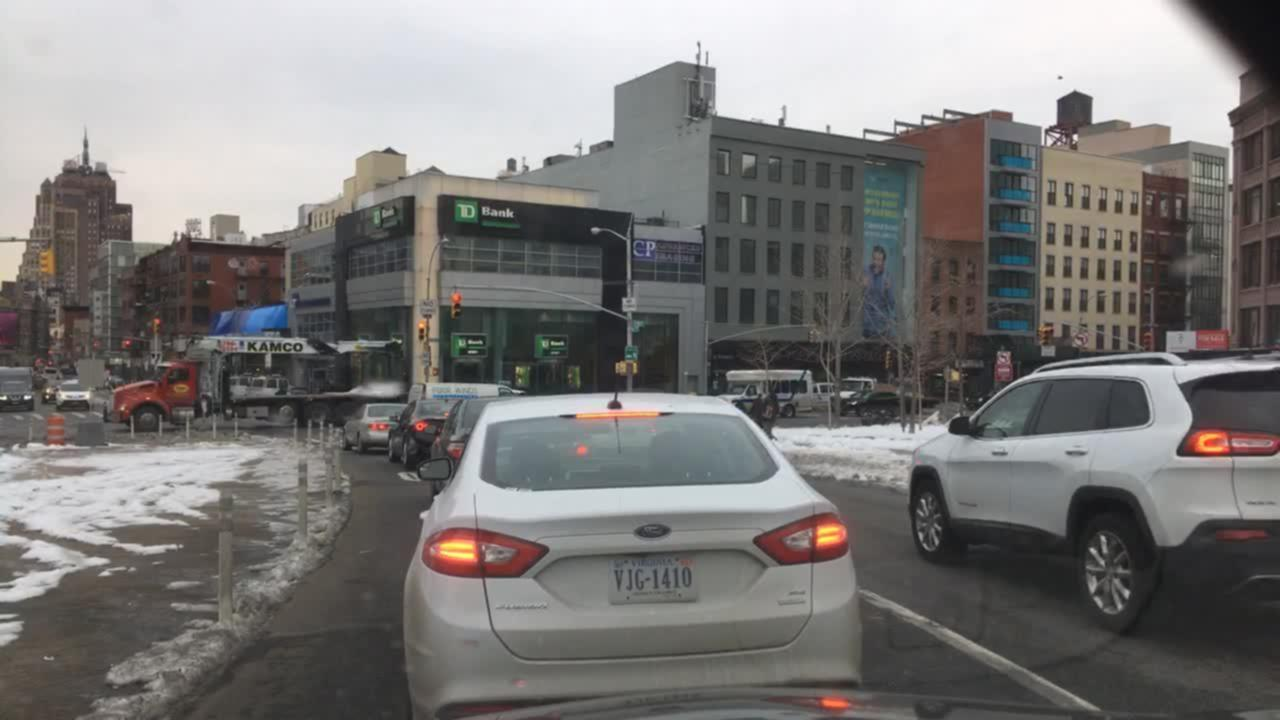ford: (628, 519, 676, 546)
